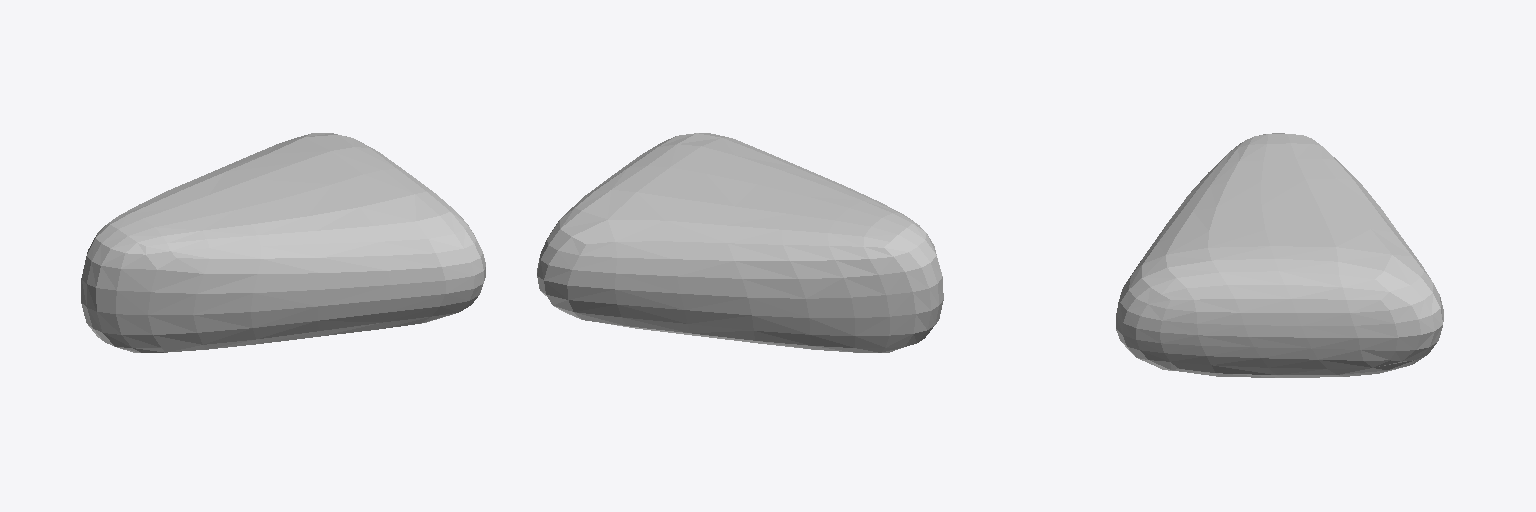
File: Candycorn.obj
3 renders of one model, left to right at view 1: azimuth 30°, elevation 25°; view 2: azimuth 150°, elevation 25°; view 3: azimuth 270°, elevation 25°, orthographic.
Visible parts, largest first — view 1: pCube1; view 2: pCube1; view 3: pCube1.
Boxes of the visible parts, x1=… form: pCube1: x1=81, y1=133, x2=485, y2=352; pCube1: x1=537, y1=133, x2=943, y2=352; pCube1: x1=1116, y1=133, x2=1443, y2=377.
Bounding box in the file's own units: 22.32 × 7.53 × 18.66.